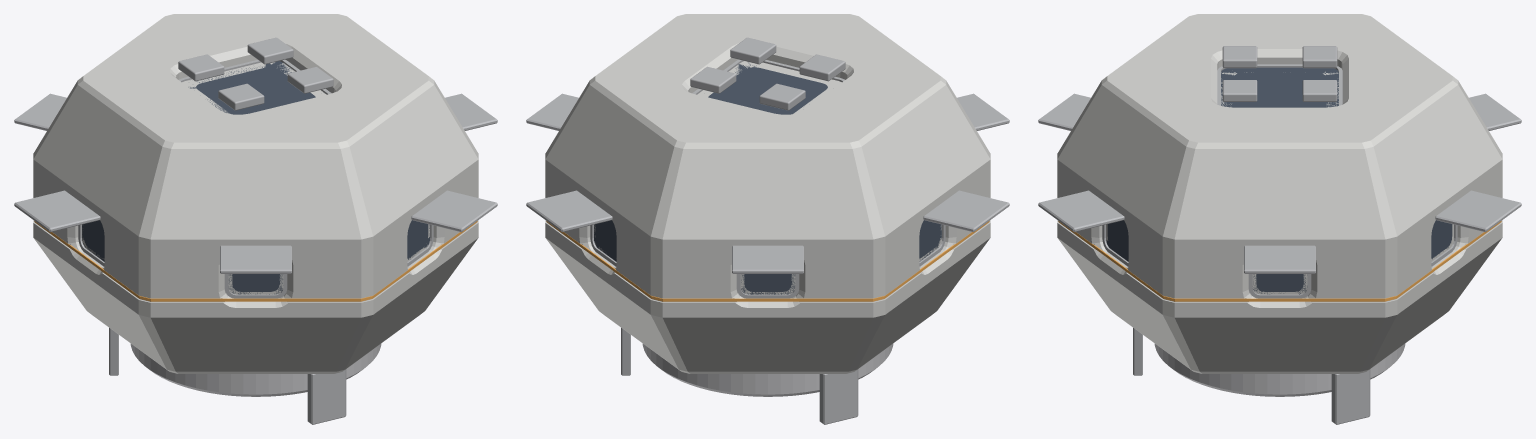
The model's file is ax_station_05_cupola.glb.
3 renders of one model, left to right at view 1: azimuth 30°, elevation 25°; view 2: azimuth 150°, elevation 25°; view 3: azimuth 270°, elevation 25°, orthographic.
Parts seen in each view (by area): view 1: pressure_hull, port_bottom, top_shutter_hinges, top_window_glass, port_bottom_petals, window_glass, cover_4, cover_6, cover_5, orange_stripes, cover_1, cover_3 (+1 smaller); view 2: pressure_hull, port_bottom, top_shutter_hinges, top_window_glass, window_glass, port_bottom_petals, cover_2, cover_4, cover_3, orange_stripes, cover_1, cover_5 (+1 smaller); view 3: pressure_hull, port_bottom, top_window_glass, top_shutter_hinges, port_bottom_petals, window_glass, cover_2, cover_6, cover_1, orange_stripes, cover_3, cover_5 (+2 smaller).
Boxes of the visible parts, box(x1,y1,x2,y2) form: pressure_hull: box(33, 14, 478, 373); port_bottom: box(130, 344, 381, 396); top_shutter_hinges: box(178, 37, 333, 110); top_window_glass: box(188, 61, 323, 114); port_bottom_petals: box(109, 328, 346, 424); window_glass: box(82, 220, 429, 294); cover_4: box(14, 190, 100, 232); cover_6: box(411, 190, 497, 232); cover_5: box(220, 245, 291, 273); orange_stripes: box(34, 221, 477, 301); cover_1: box(445, 93, 497, 130); cover_3: box(14, 93, 66, 130); pressure_hull: box(545, 14, 990, 373); port_bottom: box(642, 344, 893, 396); top_shutter_hinges: box(690, 37, 845, 110); top_window_glass: box(708, 62, 827, 114); window_glass: box(594, 220, 941, 294); port_bottom_petals: box(621, 328, 858, 424); cover_2: box(526, 190, 612, 232); cover_4: box(923, 190, 1009, 232); cover_3: box(732, 245, 803, 273); orange_stripes: box(546, 221, 989, 301); cover_1: box(526, 93, 578, 130); cover_5: box(957, 93, 1009, 130); pressure_hull: box(1057, 14, 1502, 373); port_bottom: box(1154, 344, 1405, 396); top_window_glass: box(1221, 67, 1338, 107); top_shutter_hinges: box(1222, 46, 1337, 101); port_bottom_petals: box(1133, 328, 1370, 424); window_glass: box(1106, 220, 1452, 294); cover_2: box(1435, 190, 1521, 232); cover_6: box(1038, 190, 1124, 232); cover_1: box(1244, 245, 1315, 273); orange_stripes: box(1058, 221, 1501, 301); cover_3: box(1469, 93, 1521, 130); cover_5: box(1038, 93, 1090, 130).
Size of the model in its own units: 3.3 by 2.09 by 3.08.
